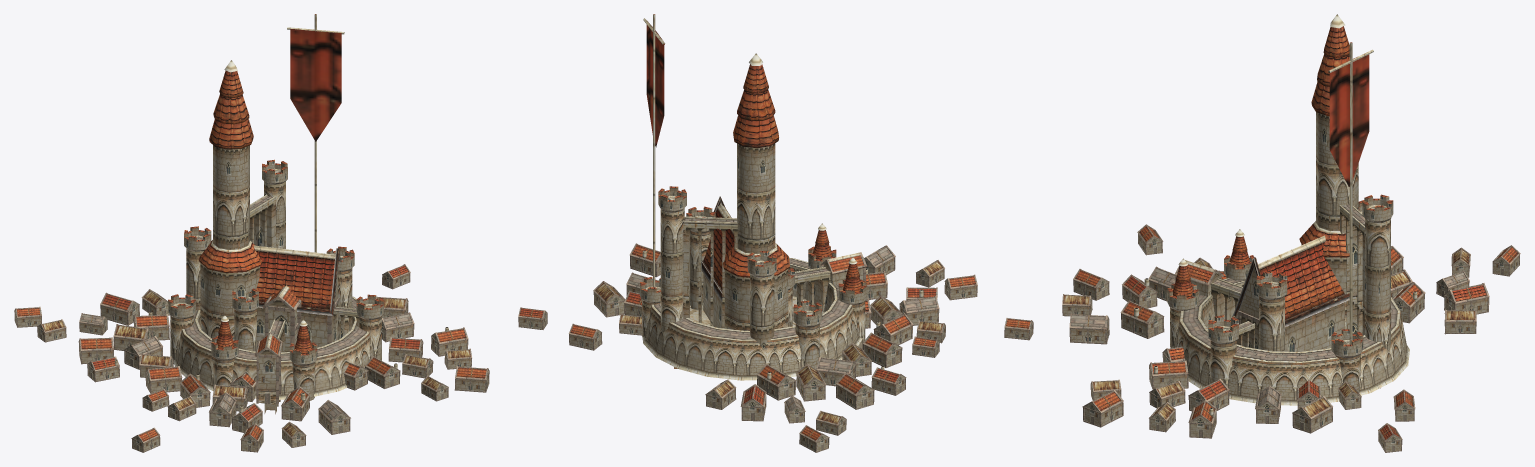
File: Settlement01.fbx
The picture shows the model from 3 angles, left to right: view 1: azimuth 30°, elevation 25°; view 2: azimuth 150°, elevation 25°; view 3: azimuth 270°, elevation 25°; orthographic projection. The views are drawn at different scales.
Parts seen in each view (by area): view 1: settlementCastle01; view 2: settlementCastle01; view 3: settlementCastle01.
Boxes of the visible parts, <box> form: settlementCastle01: <box>14,14,489,452</box>; settlementCastle01: <box>518,14,1033,452</box>; settlementCastle01: <box>1062,14,1520,452</box>.
Bounding box in the file's own units: 10.15 × 8.41 × 9.29.
